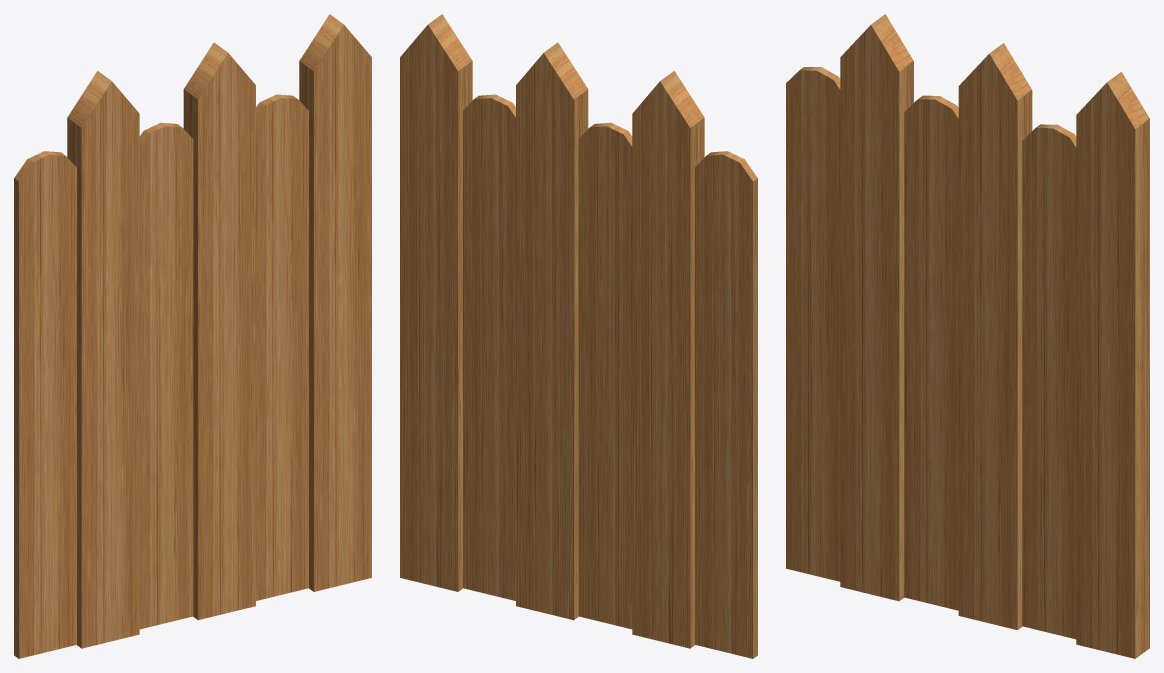
File: valla.obj
The picture shows the model from 3 angles, left to right: view 1: azimuth 30°, elevation 25°; view 2: azimuth 150°, elevation 25°; view 3: azimuth 330°, elevation 25°; orthographic projection.
Parts seen in each view (by area): view 1: valla_initialShadingGroup.001; view 2: valla_initialShadingGroup.001; view 3: valla_initialShadingGroup.001.
Part boxes in pixels (x1=…): valla_initialShadingGroup.001: x1=14, y1=14, x2=371, y2=658; valla_initialShadingGroup.001: x1=400, y1=14, x2=757, y2=658; valla_initialShadingGroup.001: x1=786, y1=14, x2=1149, y2=658.
Size of the model in its own units: 4.2 by 6.46 by 0.3.
Materials: 1 (1 with a texture image).
